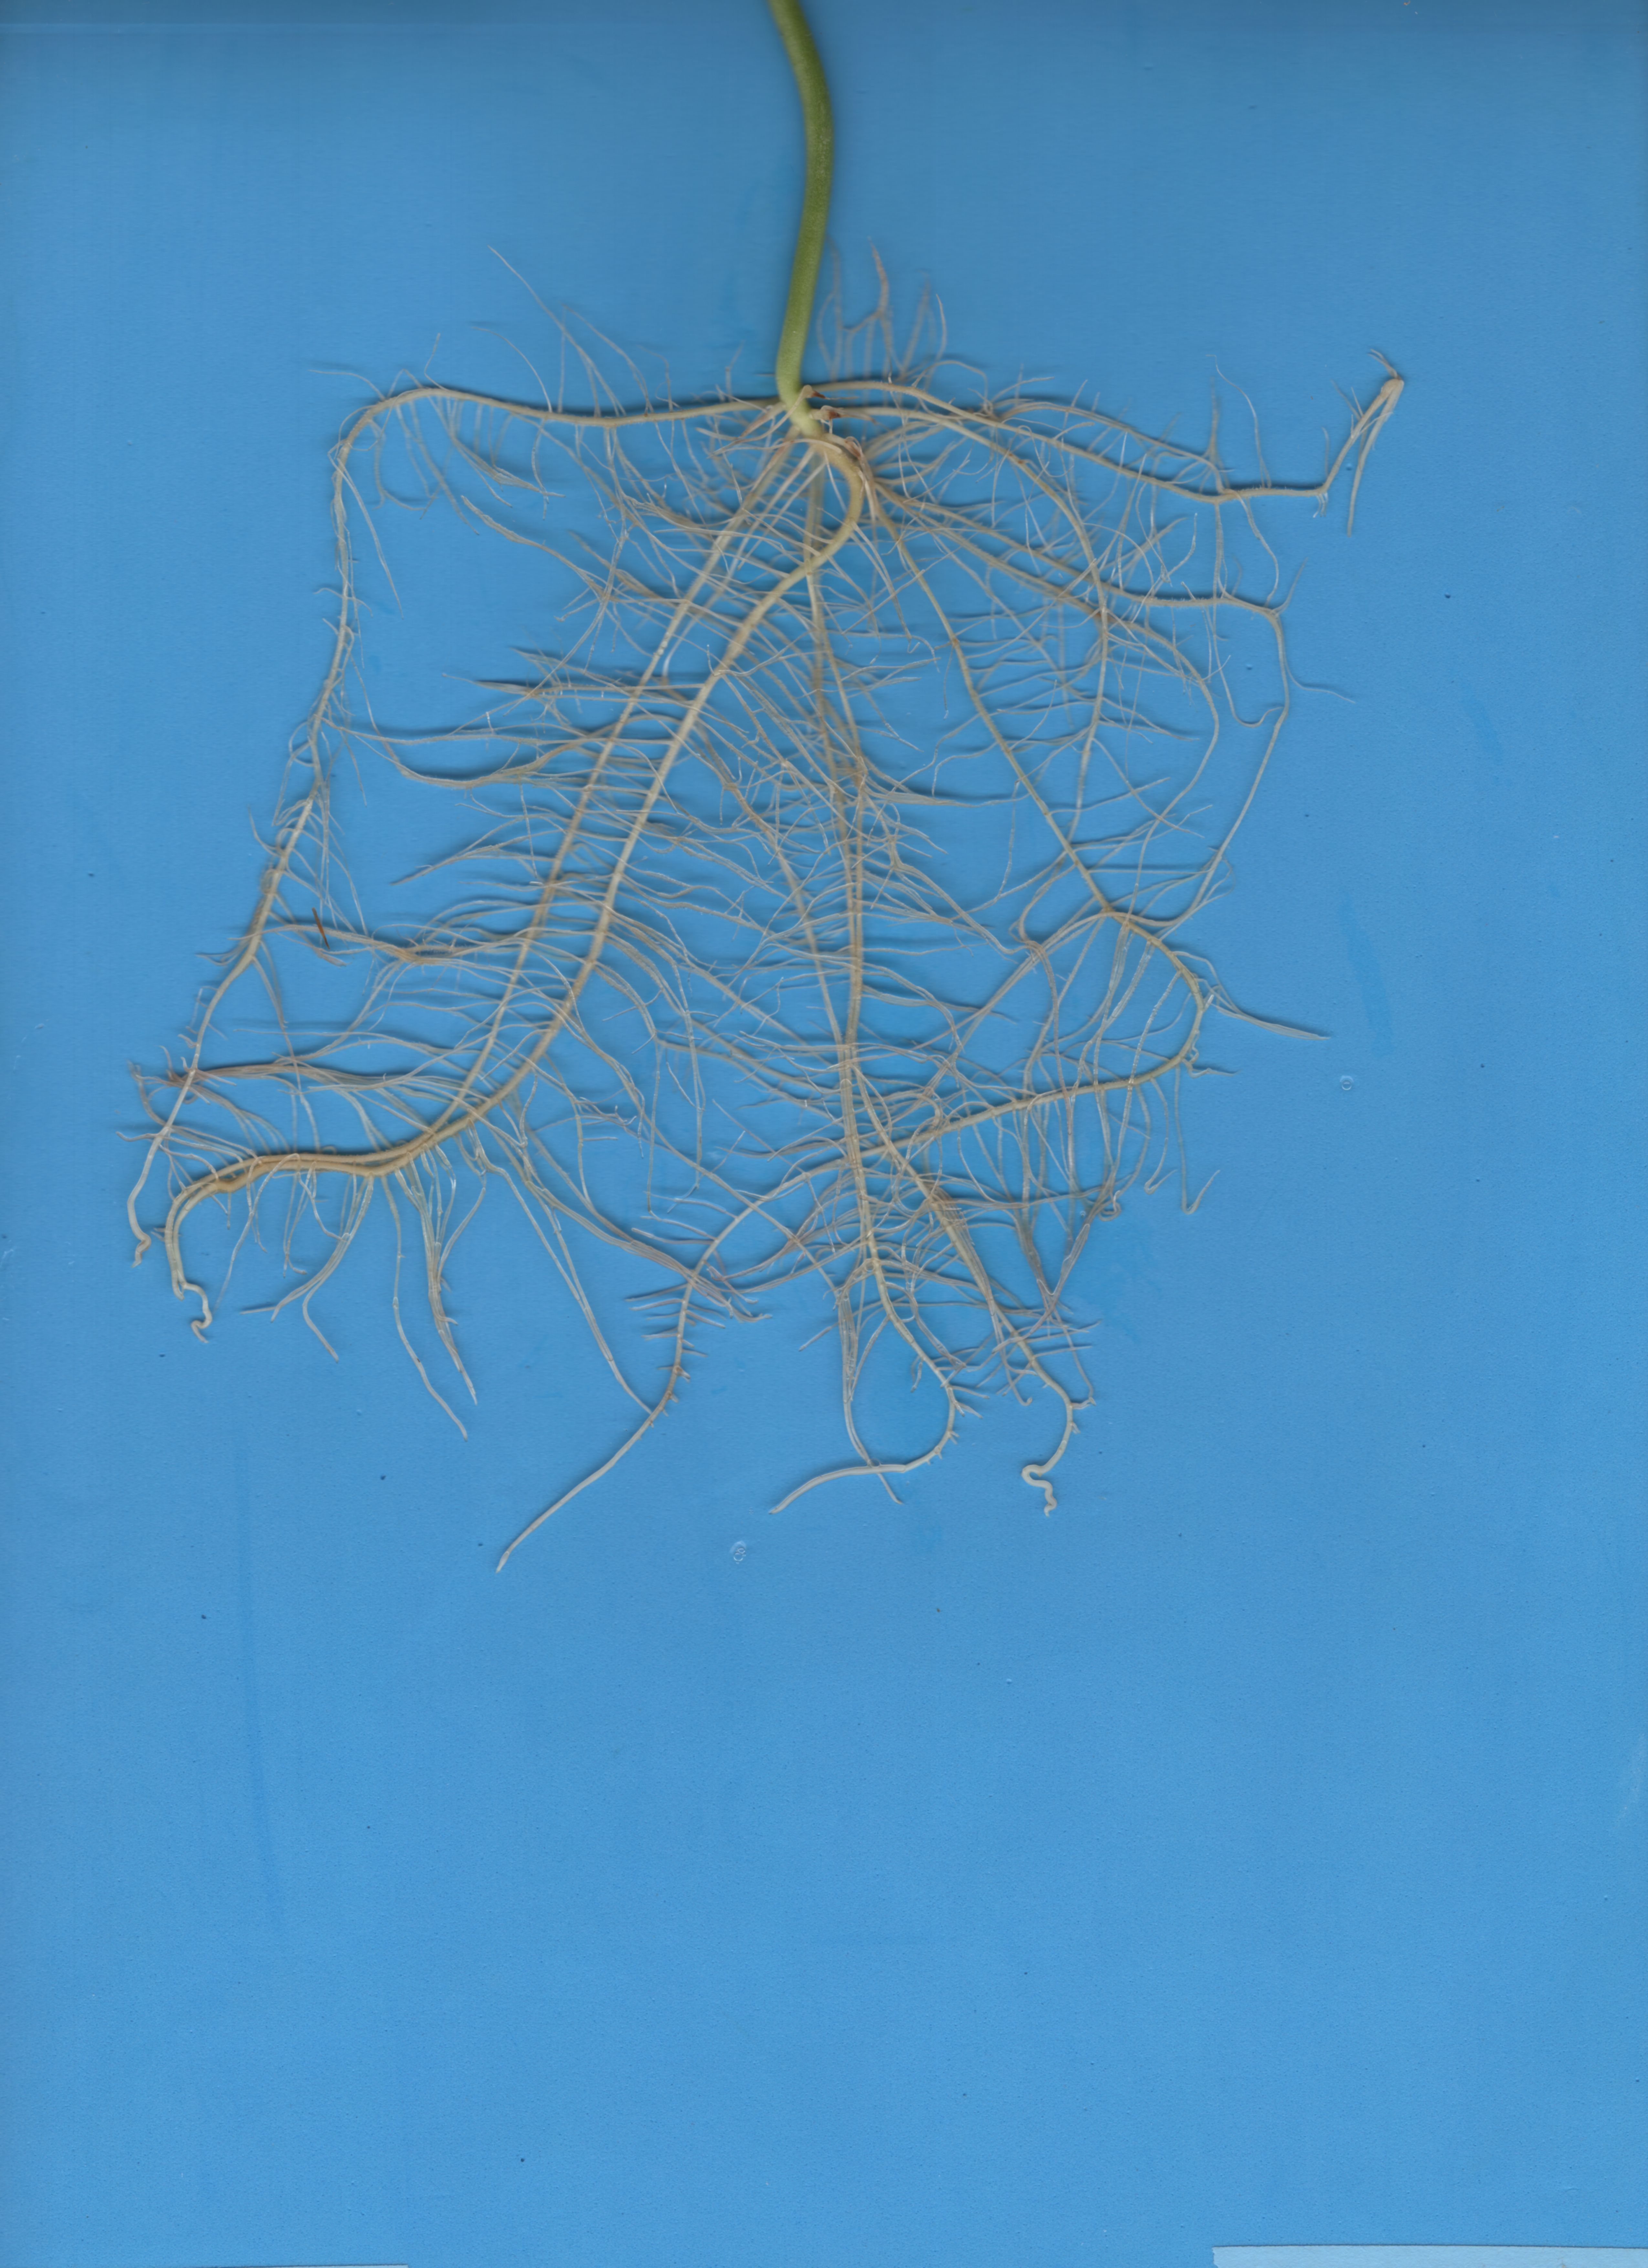CROWNGOOD: (706, 11, 937, 449)
ROOTGOOD: (58, 333, 1590, 1604)
